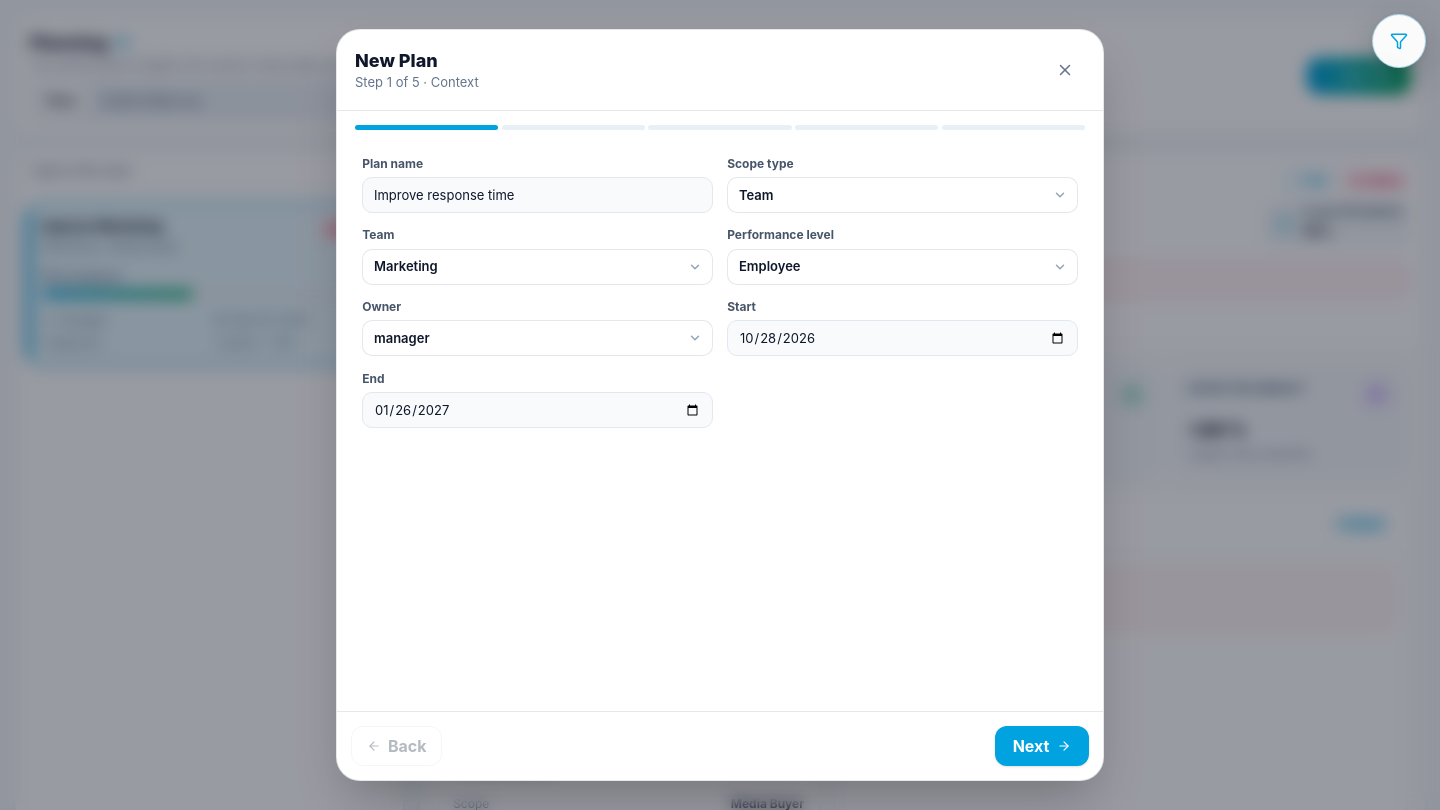
it: PlanningView › prefills measurable outcomes from a linked insight before review
Click the button "Next".
click(1042, 746)  # box [995,726,1089,766]
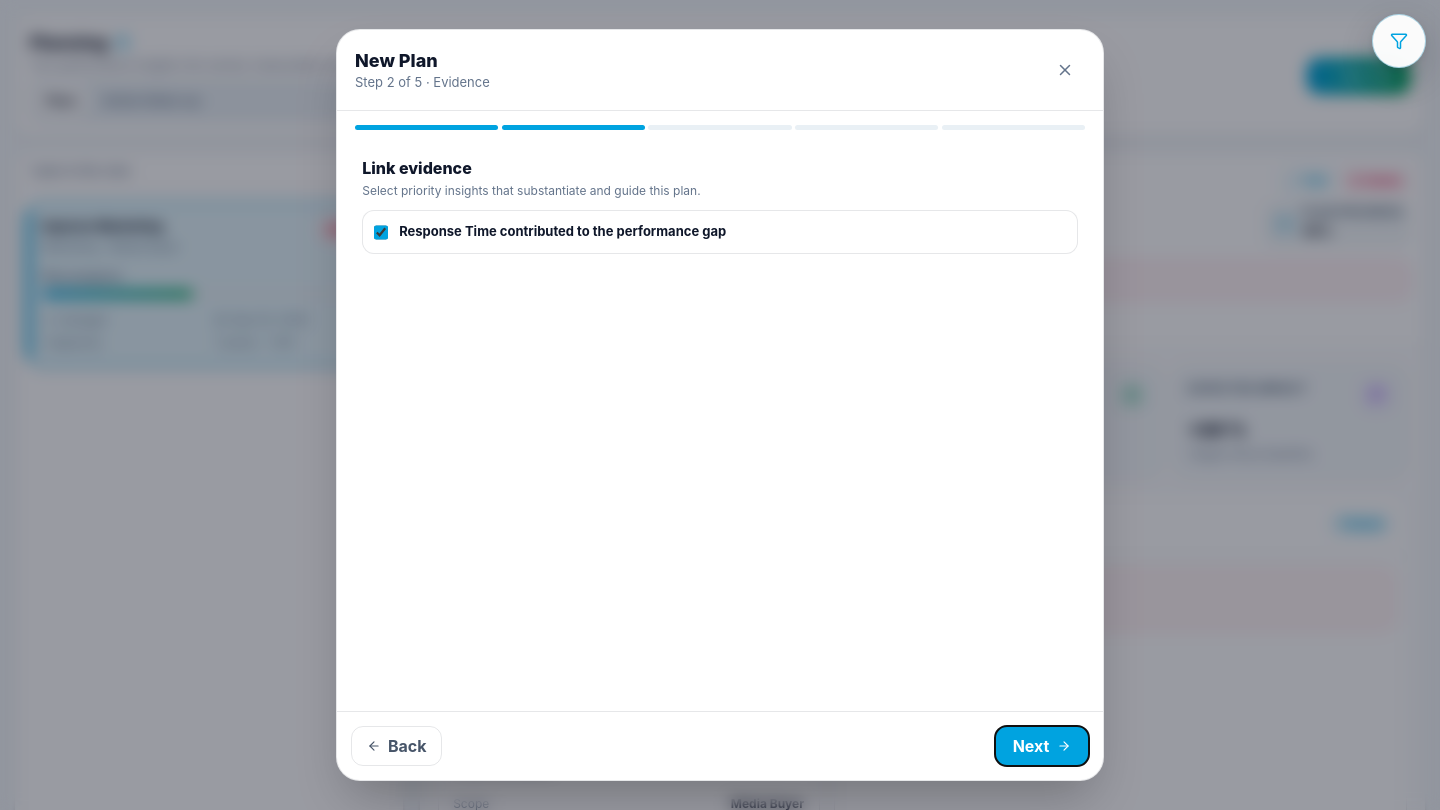
Click the button "Next".
click(1042, 746)  # box [995,726,1089,766]
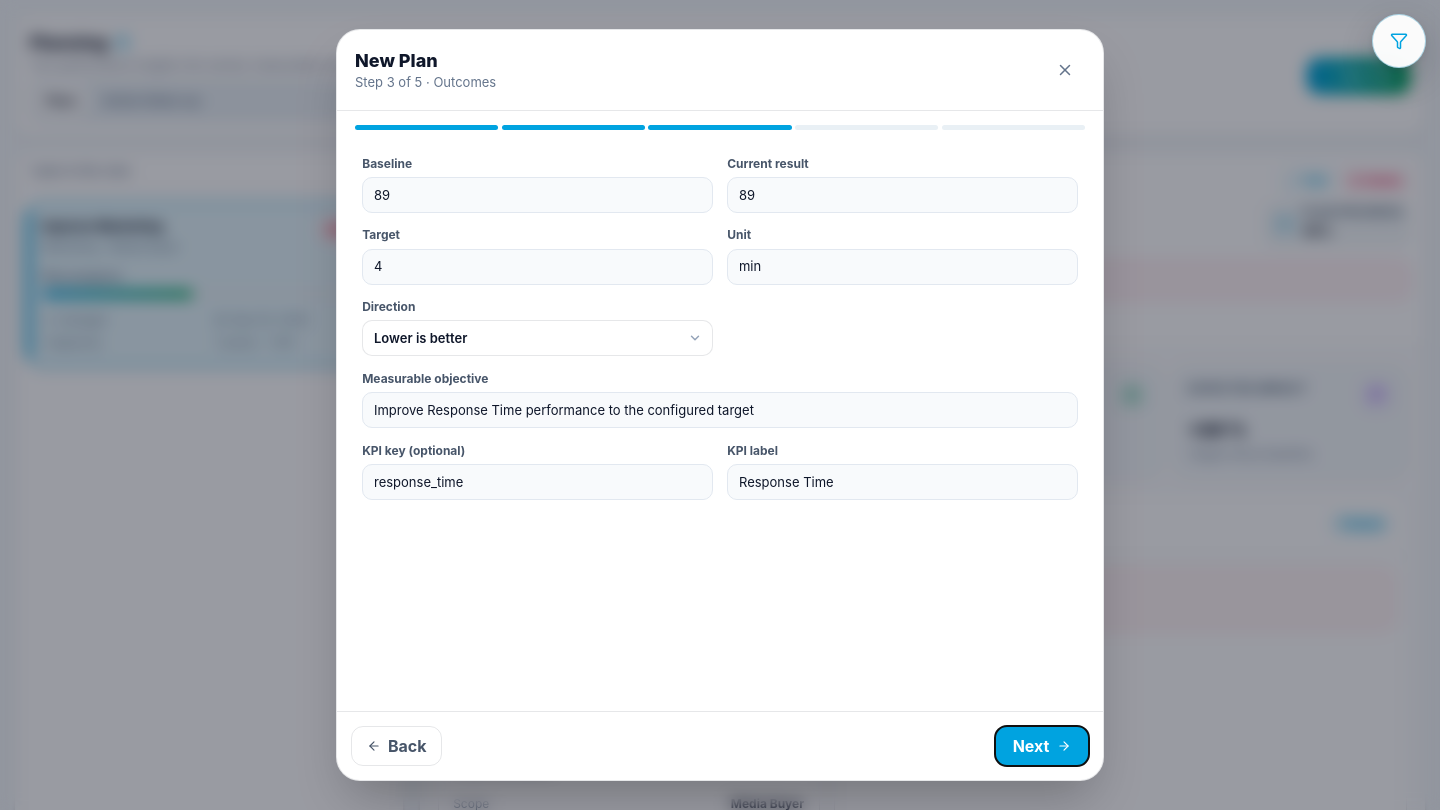
Check: the number field labelled "Baseline" holds "89", box [362,177,713,213]
Check: the number field labelled "Target" holds "4", box [362,249,713,285]
Check: the field labelled "Measurable objective" holds "Improve Response Time performance to the configured target", box [362,392,1078,428]
